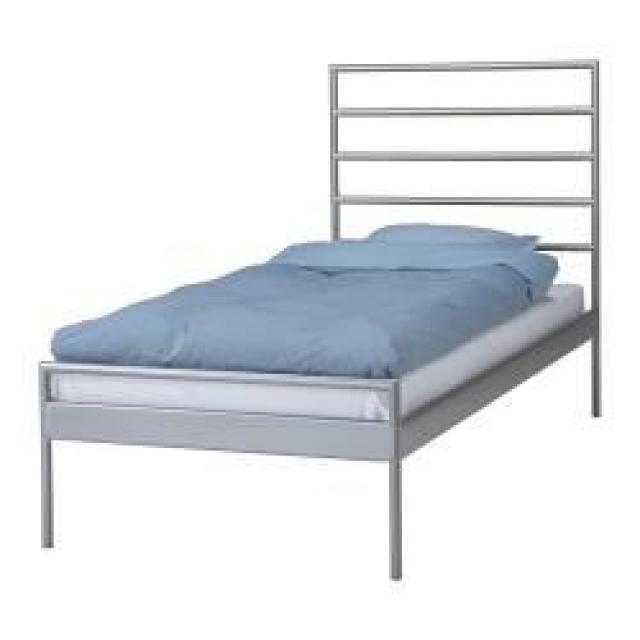bed: (36, 56, 602, 578)
